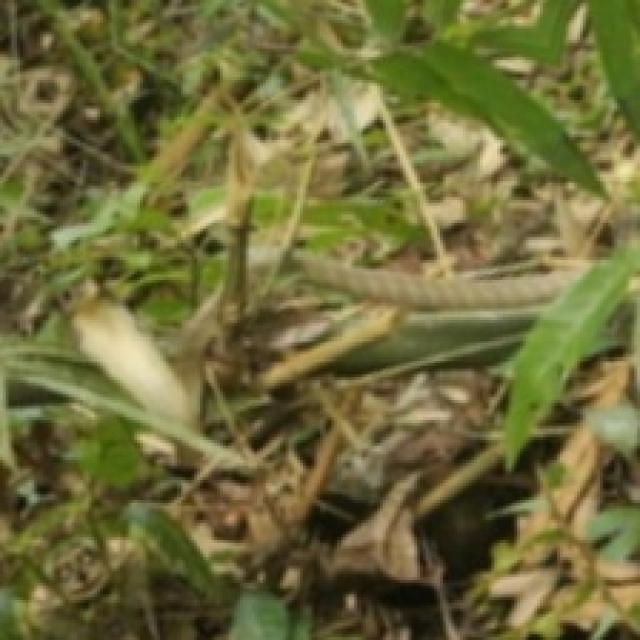king cobra: (72, 291, 220, 424), (291, 256, 574, 310), (250, 250, 279, 269)
